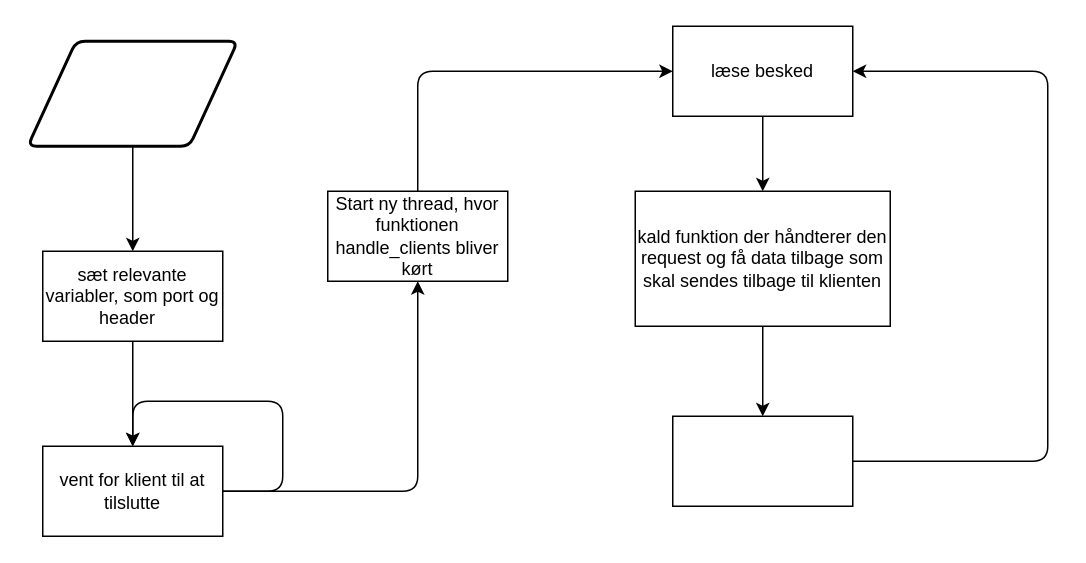
This 1086x563 diagram has some shape labels left out. The shapes that lost their labels are listed below. From the top down, each one's box as (x1, y1, x2, y2) in pixels, then its label:
(26, 39, 238, 147): Start
(671, 415, 853, 506): Send besked til klienten med den data
